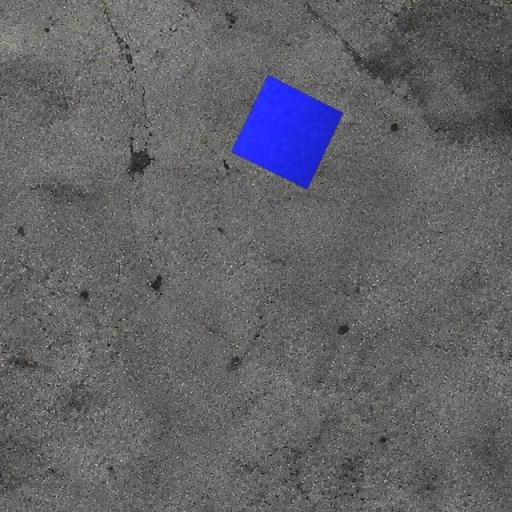BLUE_SQUARE: (230, 75, 344, 190)
